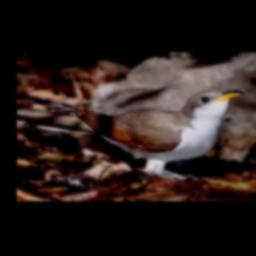Cuckoo: (17, 90, 245, 177)
